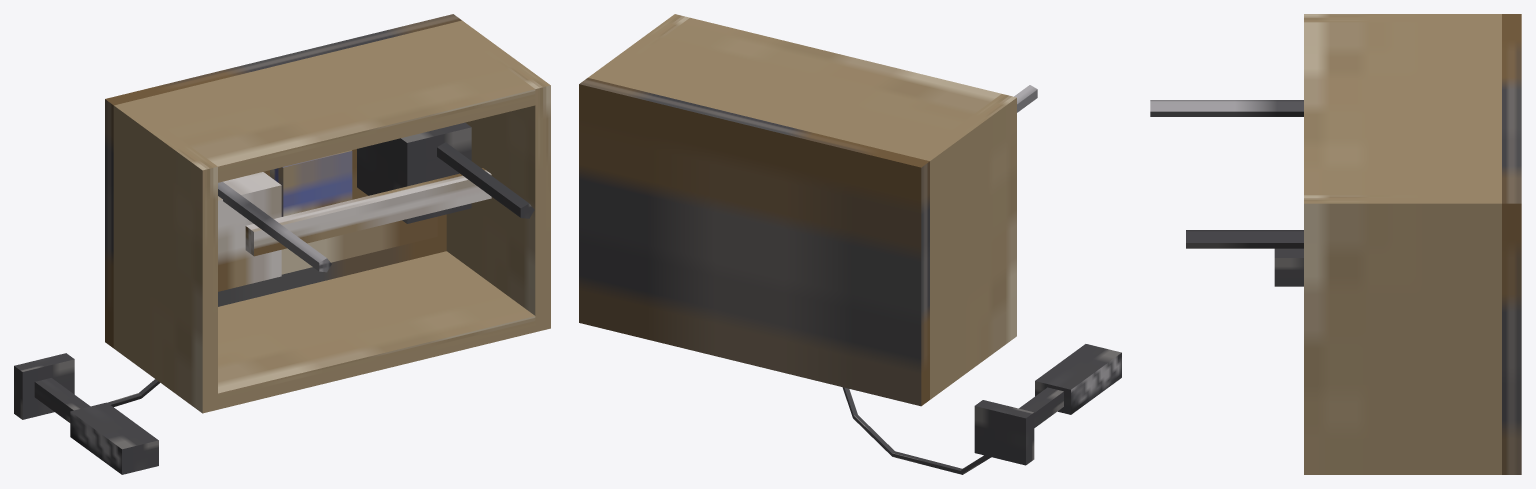
The model's file is pz_house_makeshift_ham_open_v2.obj.
3 views of the same model, side by side, from view 1: azimuth 30°, elevation 25°; view 2: azimuth 150°, elevation 25°; view 3: azimuth 270°, elevation 25° (orthographic). The views are drawn at different scales.
Parts seen in each view (by area): view 1: open_box_back, front_command_panel, open_box_left, open_box_right, open_box_base, inside_white_crossbar, inside_dark_unit, inside_power_unit, external_microphone_head, inside_blue_component, inside_board, external_microphone_foot (+3 smaller); view 2: open_box_base, open_box_back, open_box_left, external_microphone_head, external_microphone_foot, open_box_right, external_microphone_cable, external_microphone_handle; view 3: open_box_right, open_box_back, open_box_base, left_internal_antenna, right_internal_antenna, open_box_left, external_microphone_head.
Boxes of the visible parts, x1=… form: open_box_back: x1=129, y1=24, x2=535, y2=182; front_command_panel: x1=218, y1=251, x2=535, y2=409; open_box_left: x1=113, y1=102, x2=217, y2=413; open_box_right: x1=446, y1=20, x2=550, y2=332; open_box_base: x1=105, y1=14, x2=461, y2=347; inside_white_crossbar: x1=245, y1=168, x2=491, y2=256; inside_dark_unit: x1=357, y1=122, x2=471, y2=223; inside_power_unit: x1=218, y1=172, x2=281, y2=291; external_microphone_head: x1=70, y1=402, x2=158, y2=474; inside_blue_component: x1=270, y1=150, x2=352, y2=216; inside_board: x1=263, y1=149, x2=437, y2=274; external_microphone_foot: x1=14, y1=353, x2=74, y2=419; open_box_base: x1=579, y1=78, x2=929, y2=406; open_box_back: x1=603, y1=17, x2=1001, y2=157; open_box_left: x1=915, y1=94, x2=1016, y2=399; external_microphone_head: x1=1035, y1=344, x2=1121, y2=414; external_microphone_foot: x1=974, y1=400, x2=1034, y2=465; open_box_right: x1=588, y1=14, x2=689, y2=81; external_microphone_cable: x1=842, y1=387, x2=991, y2=474; external_microphone_handle: x1=1019, y1=387, x2=1063, y2=427; open_box_right: x1=1304, y1=195, x2=1501, y2=474; open_box_back: x1=1304, y1=22, x2=1501, y2=195; open_box_base: x1=1502, y1=14, x2=1521, y2=474; left_internal_antenna: x1=1150, y1=100, x2=1303, y2=116; right_internal_antenna: x1=1186, y1=230, x2=1303, y2=248; open_box_left: x1=1304, y1=14, x2=1501, y2=22; external_microphone_head: x1=1274, y1=248, x2=1303, y2=286.
Bounding box in the file's own units: 0.7276 × 0.4786 × 0.469.
Materials: 1 (1 with a texture image).
